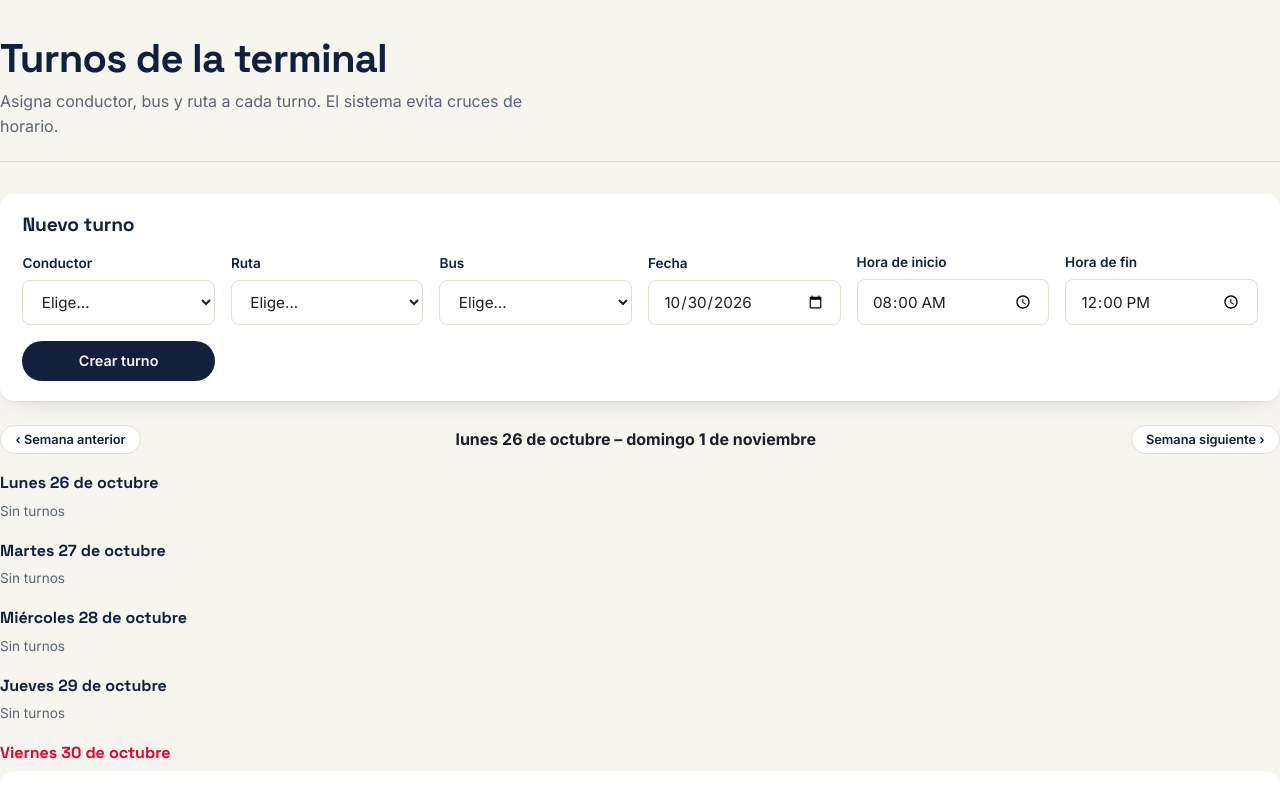
it: AdminTurnos › muestra el conflicto de horario que informa el servidor
The image size is (1280, 787).
Select "Carlos Ruiz" in the dropdown labelled "Conductor". click: (119, 303)
box: [22,280,215,325]
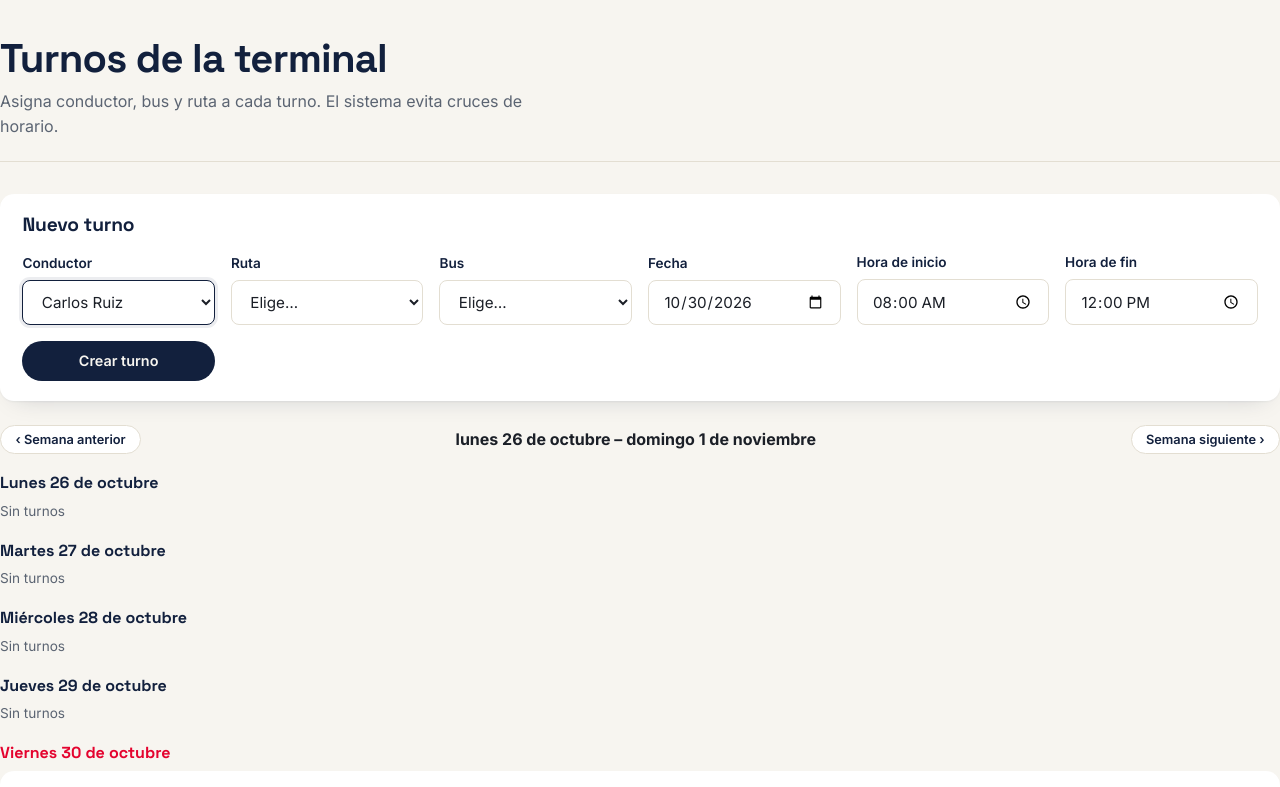
Select "L1 · Terminal Norte - Centro" in the dropdown labelled "Ruta". click: (327, 303)
box: [231,280,423,325]
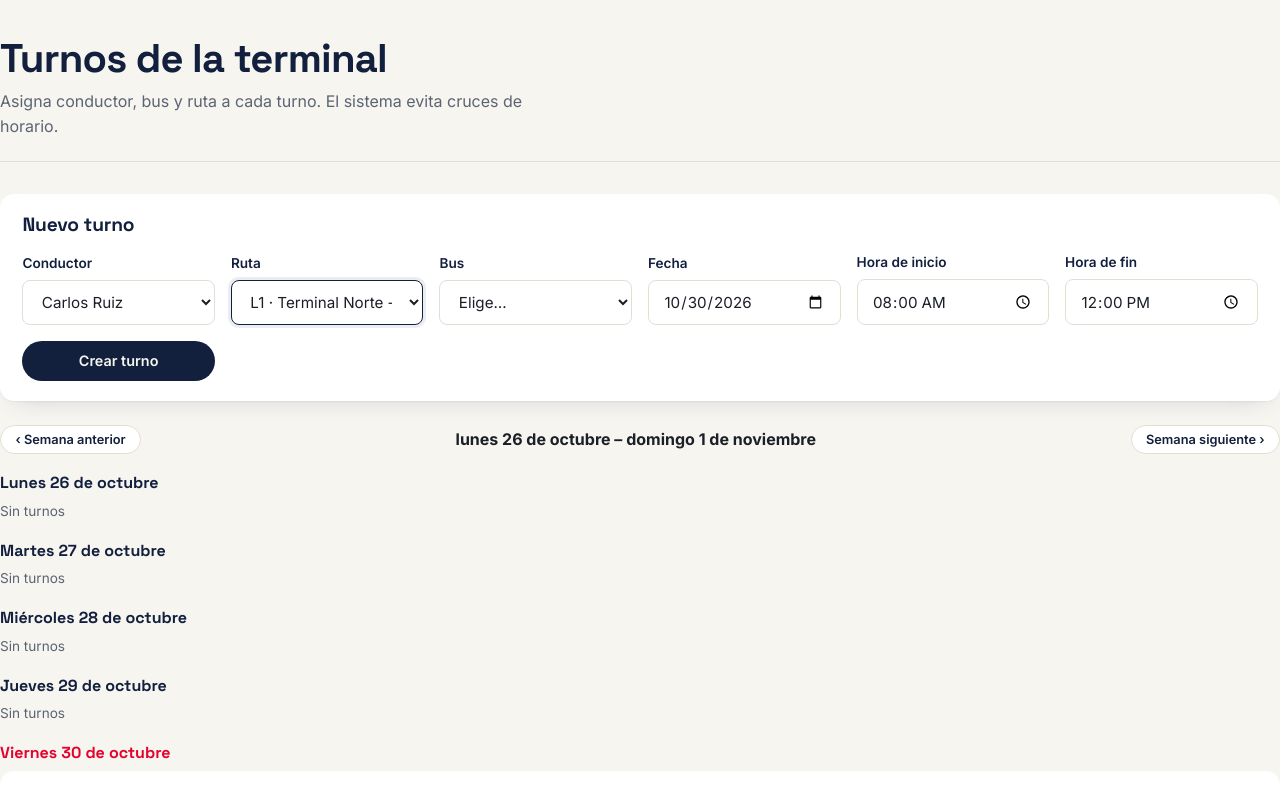
Select "ABCD-11 · Norte" in the dropdown labelled "Bus". click: (536, 303)
box: [440,280,632,325]
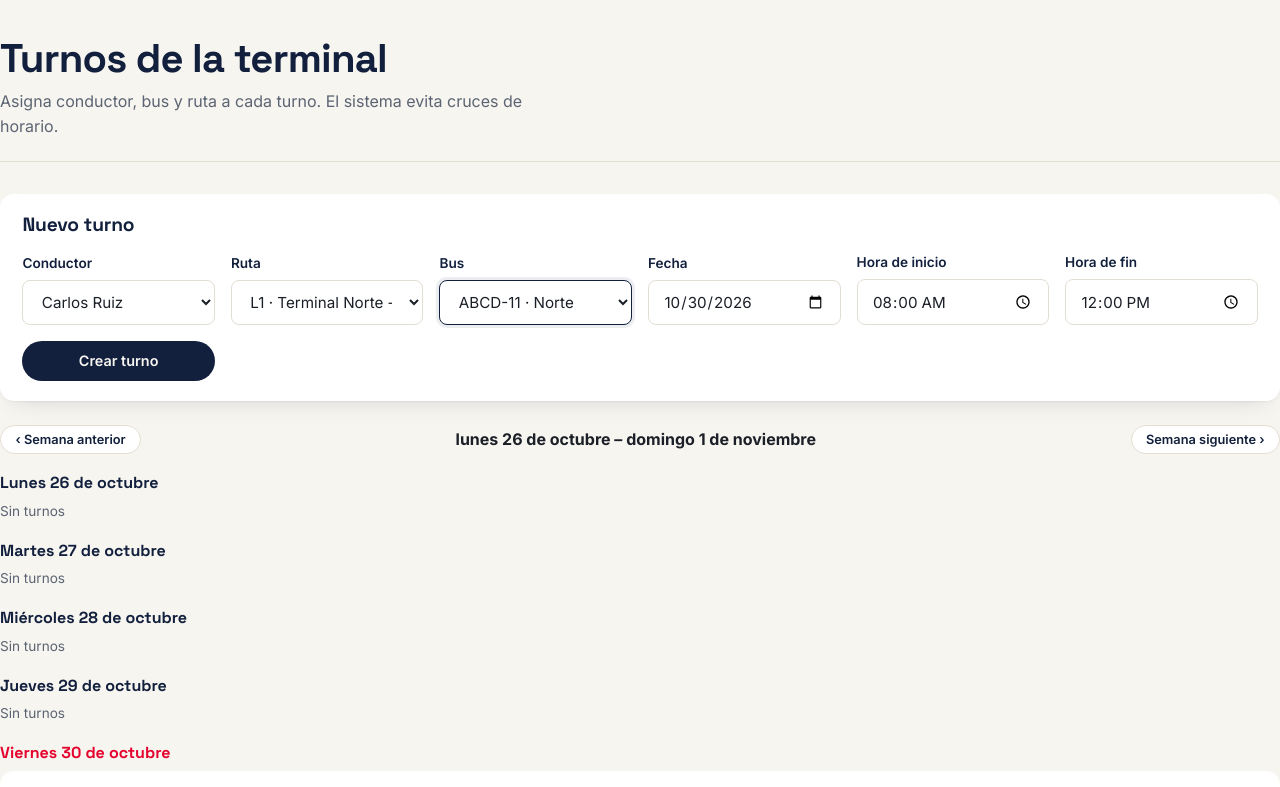
Click the button "Crear turno". click: (119, 361)
box: [22,341,215,381]
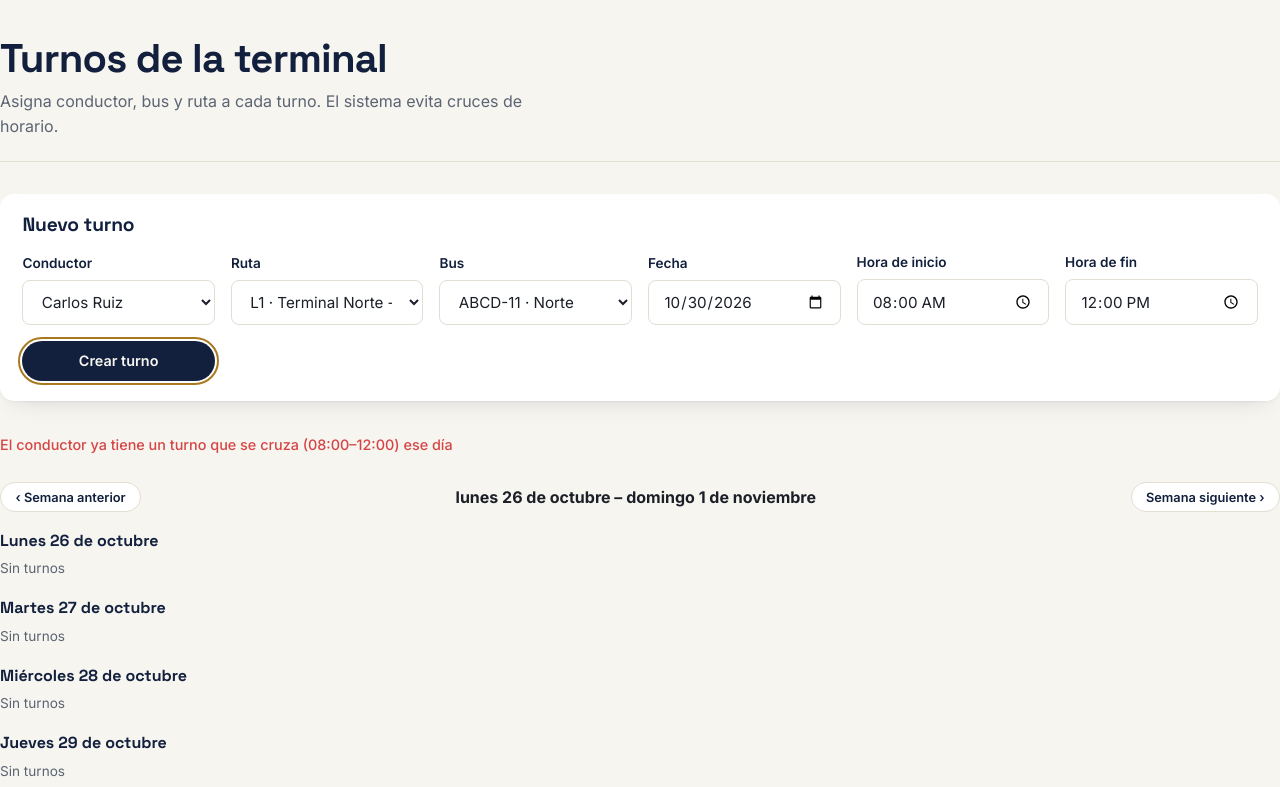
Now the message shows "se cruza", box [0,436,453,453]
